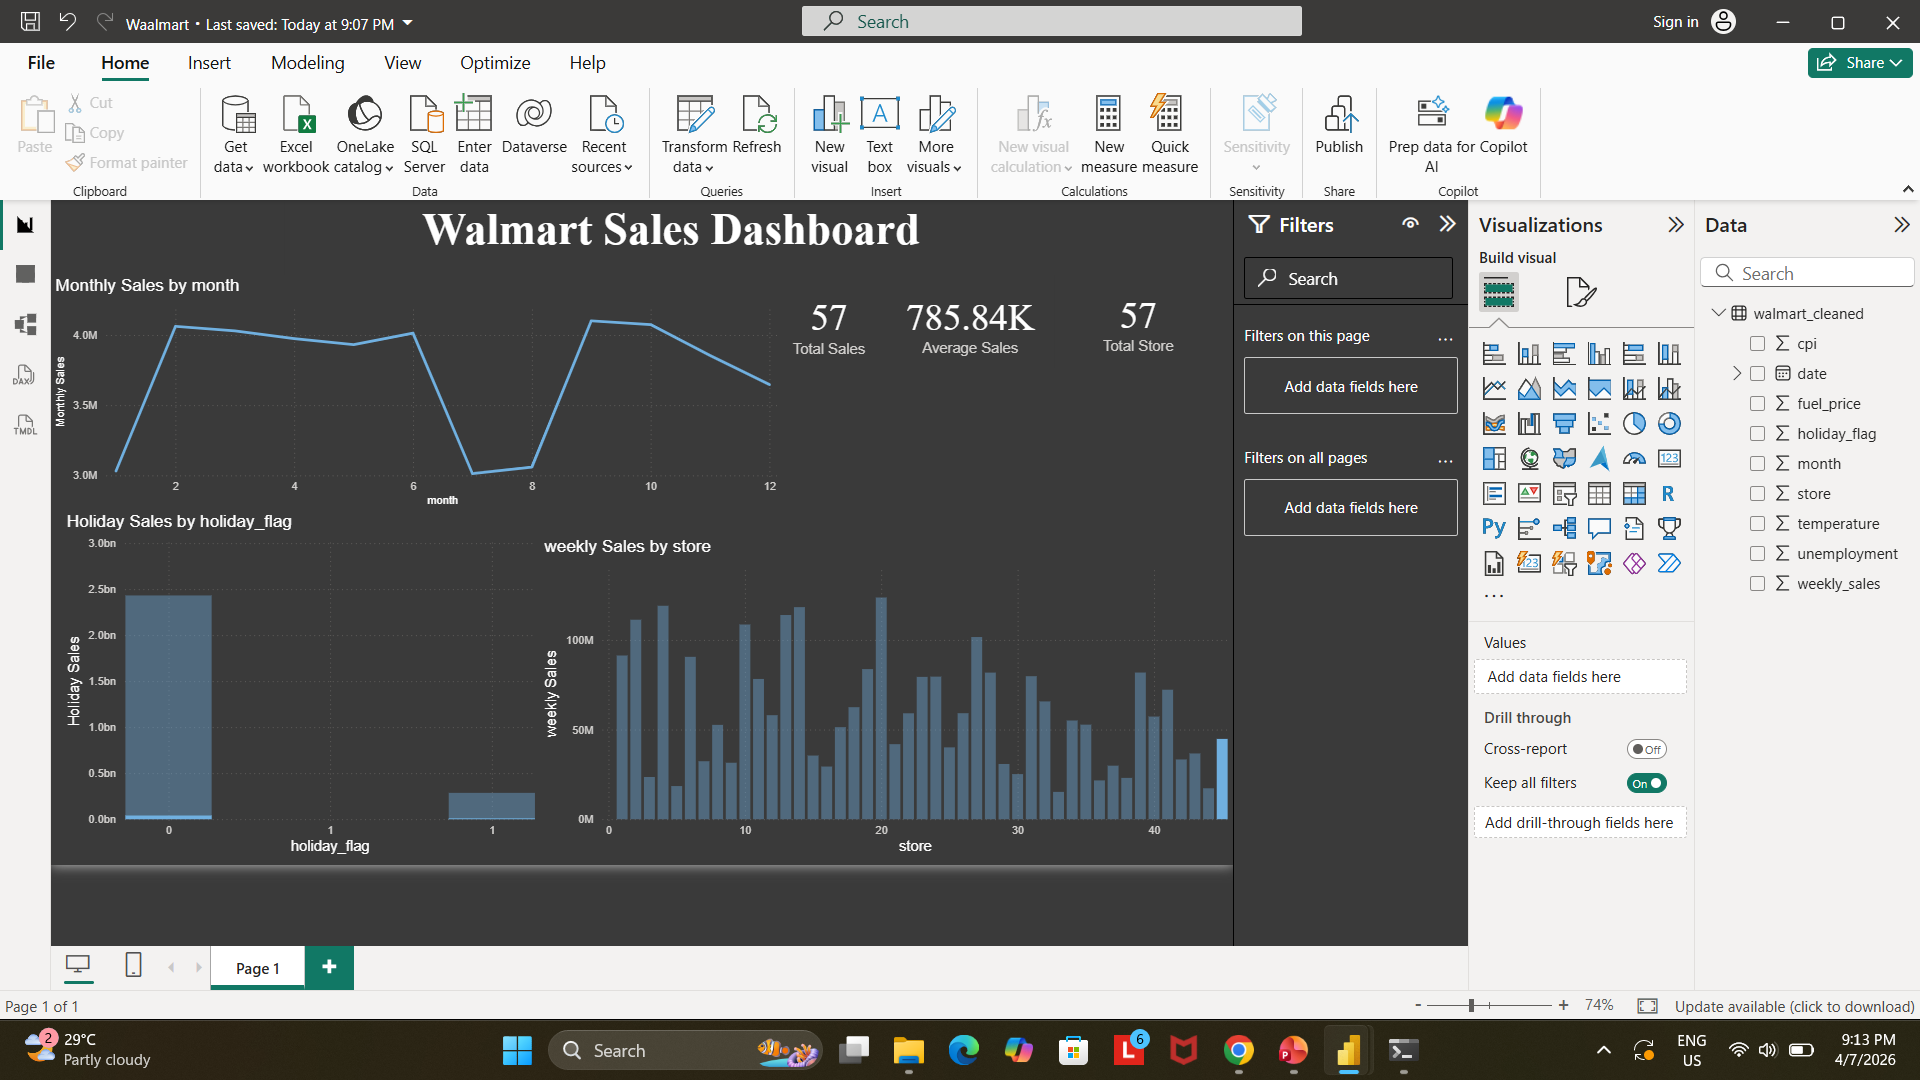

Layout of this report page (visuals, bound fields, positions):
{"tool":"powerbi","page":{"name":"Page 1","canvas":[1280,720],"ordinal":0},"visuals":[{"type":"textbox","box":[253.4,0,805.9,111],"z":0},{"type":"card","fields":{"Values":["Count(walmart_cleaned.weekly_sales)"]},"box":[757.9,82.6,169.2,102.9],"z":1000},{"type":"card","fields":{"Values":["Avg(walmart_cleaned.weekly_sales)"]},"box":[904,81.2,182.7,104.2],"z":2000},{"type":"card","fields":{"Values":["CountNonNull(walmart_cleaned.store)"]},"box":[1086.7,81.2,181.3,100.1],"z":3000},{"type":"lineChart","fields":{"Category":["walmart_cleaned.month"],"Y":["Sum(walmart_cleaned.weekly_sales)"]},"box":[0,81.2,793.1,255.8],"z":4000},{"type":"columnChart","fields":{"Category":["walmart_cleaned.store"],"Y":["Sum(walmart_cleaned.weekly_sales)"]},"box":[529.2,364.1,751.1,349.2],"z":5000},{"type":"columnChart","fields":{"Category":["walmart_cleaned.holiday_flag"],"Y":["Sum(walmart_cleaned.weekly_sales)"]},"box":[12.2,337,517,376.2],"z":6000}]}

Visuals, with their boxes on the page's 1280x720 design canvas (x1, y1, x2, y2). These are canvas units, not pixel positions in the 1920x1080 screenshot, which may show the page scaled, cropped or inside an application window:
textbox: detection(253, 0, 1059, 111)
card - Count(walmart_cleaned.weekly_sales): detection(758, 83, 927, 186)
card - Avg(walmart_cleaned.weekly_sales): detection(904, 81, 1087, 185)
card - CountNonNull(walmart_cleaned.store): detection(1087, 81, 1268, 181)
lineChart - walmart_cleaned.month x Sum(walmart_cleaned.weekly_sales): detection(0, 81, 793, 337)
columnChart - walmart_cleaned.store x Sum(walmart_cleaned.weekly_sales): detection(529, 364, 1280, 713)
columnChart - walmart_cleaned.holiday_flag x Sum(walmart_cleaned.weekly_sales): detection(12, 337, 529, 713)
